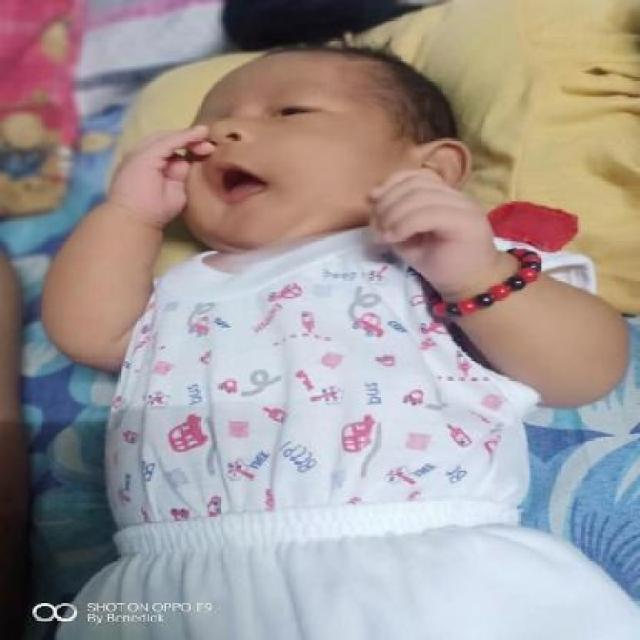baby: (40, 44, 629, 638)
